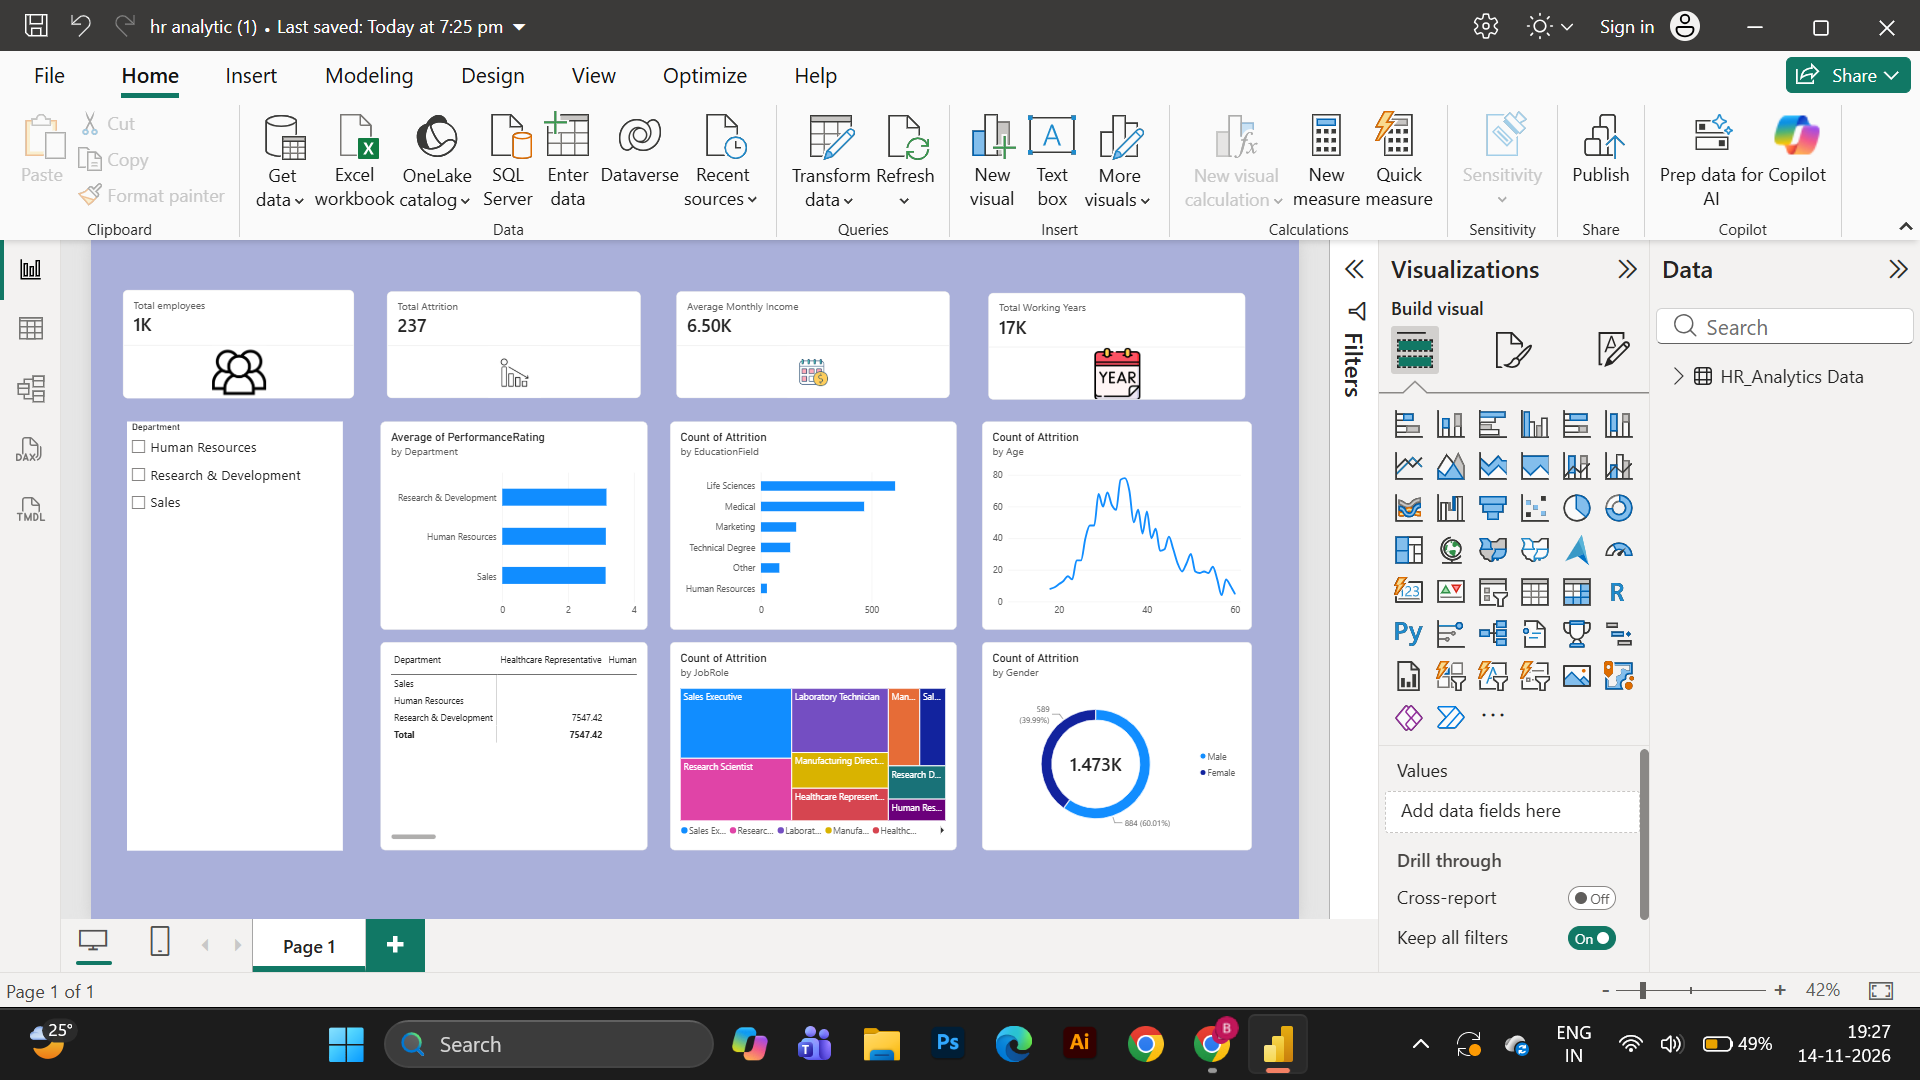

The page's visual inventory and layout, read from the dashboard file:
{"tool":"powerbi","page":{"name":"Page 1","canvas":[1920,1080],"ordinal":0},"visuals":[{"type":"slicer","fields":{"Values":["HR_Analytics Data.Department"]},"box":[57.3,288.7,343.6,682.4],"z":0},{"type":"donutChart","fields":{"Category":["HR_Analytics Data.Gender"],"Y":["CountNonNull(HR_Analytics Data.Attrition)"]},"box":[1417.2,639.4,429.5,331.6],"z":1000},{"type":"clusteredBarChart","fields":{"Category":["HR_Analytics Data.EducationField"],"Y":["CountNonNull(HR_Analytics Data.Attrition)"]},"box":[921,288.7,455.7,331.6],"z":2000},{"type":"cardVisual","fields":{"Data":["Sum(HR_Analytics Data.EmployeeCount)"]},"box":[40.6,69.2,388.9,193.3],"z":3000},{"type":"cardVisual","fields":{"Data":["HR_Analytics Data.Total Attrition"]},"box":[460.5,71.6,424.7,190.9],"z":4000},{"type":"lineChart","fields":{"Category":["HR_Analytics Data.Age"],"Y":["CountNonNull(HR_Analytics Data.Attrition)"]},"box":[1417.2,288.7,429.5,331.6],"z":5000},{"type":"treemap","fields":{"Group":["HR_Analytics Data.JobRole"],"Values":["CountNonNull(HR_Analytics Data.Attrition)"]},"box":[921,639.4,455.7,331.6],"z":6000},{"type":"cardVisual","fields":{"Data":["HR_Analytics Data.Average Monthly Income"]},"box":[921,71.6,455.7,190.9],"z":7000},{"type":"cardVisual","fields":{"Data":["HR_Analytics Data.Total Working Years"]},"box":[1417.2,74,429.5,190.9],"z":8000},{"type":"pivotTable","fields":{"Columns":["HR_Analytics Data.JobRole"],"Rows":["HR_Analytics Data.Department"],"Values":["Avg(HR_Analytics Data.MonthlyIncome)"]},"box":[460.5,639.4,424.7,331.6],"z":9000},{"type":"barChart","fields":{"Category":["HR_Analytics Data.Department"],"Y":["Avg(HR_Analytics Data.PerformanceRating)"]},"box":[460.5,288.7,424.7,331.6],"z":10000},{"type":"textbox","box":[57,895,281,150],"z":10001},{"type":"textbox","box":[100,100,300,300],"z":10002}]}

Visuals, with their boxes on the page's 1920x1080 design canvas (x1, y1, x2, y2). These are canvas units, not pixel positions in the 1920x1080 screenshot, which may show the page scaled, cropped or inside an application window:
slicer - HR_Analytics Data.Department: <box>57,289,401,971</box>
donutChart - HR_Analytics Data.Gender x CountNonNull(HR_Analytics Data.Attrition): <box>1417,639,1847,971</box>
clusteredBarChart - HR_Analytics Data.EducationField x CountNonNull(HR_Analytics Data.Attrition): <box>921,289,1377,620</box>
cardVisual - Sum(HR_Analytics Data.EmployeeCount): <box>41,69,430,262</box>
cardVisual - HR_Analytics Data.Total Attrition: <box>460,72,885,262</box>
lineChart - HR_Analytics Data.Age x CountNonNull(HR_Analytics Data.Attrition): <box>1417,289,1847,620</box>
treemap - HR_Analytics Data.JobRole x CountNonNull(HR_Analytics Data.Attrition): <box>921,639,1377,971</box>
cardVisual - HR_Analytics Data.Average Monthly Income: <box>921,72,1377,262</box>
cardVisual - HR_Analytics Data.Total Working Years: <box>1417,74,1847,265</box>
pivotTable - HR_Analytics Data.JobRole x HR_Analytics Data.Department: <box>460,639,885,971</box>
barChart - HR_Analytics Data.Department x Avg(HR_Analytics Data.PerformanceRating): <box>460,289,885,620</box>
textbox: <box>57,895,338,1045</box>
textbox: <box>100,100,400,400</box>
